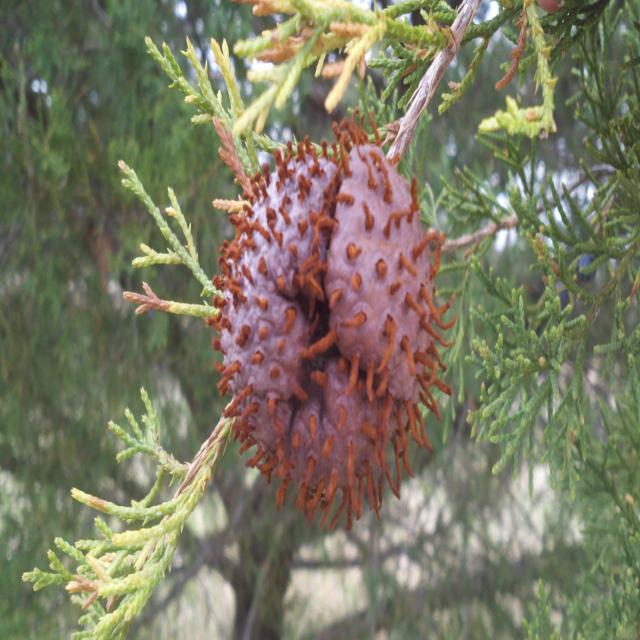Gymnosporangium_Rusts: (205, 110, 458, 534)
